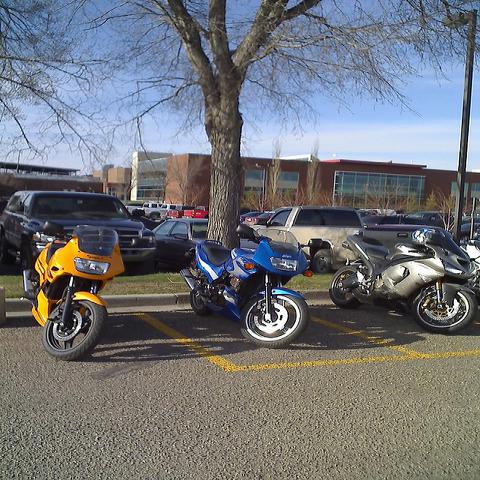car: (0, 189, 159, 274), (150, 218, 259, 268), (361, 214, 441, 230), (406, 211, 472, 227), (242, 211, 275, 226), (460, 221, 479, 241), (237, 212, 266, 223)
motorcycle: (178, 223, 324, 348), (330, 229, 476, 333), (20, 221, 126, 361), (461, 235, 479, 290)
truck: (248, 205, 440, 274), (137, 204, 183, 221), (162, 206, 210, 219), (407, 211, 444, 227)
